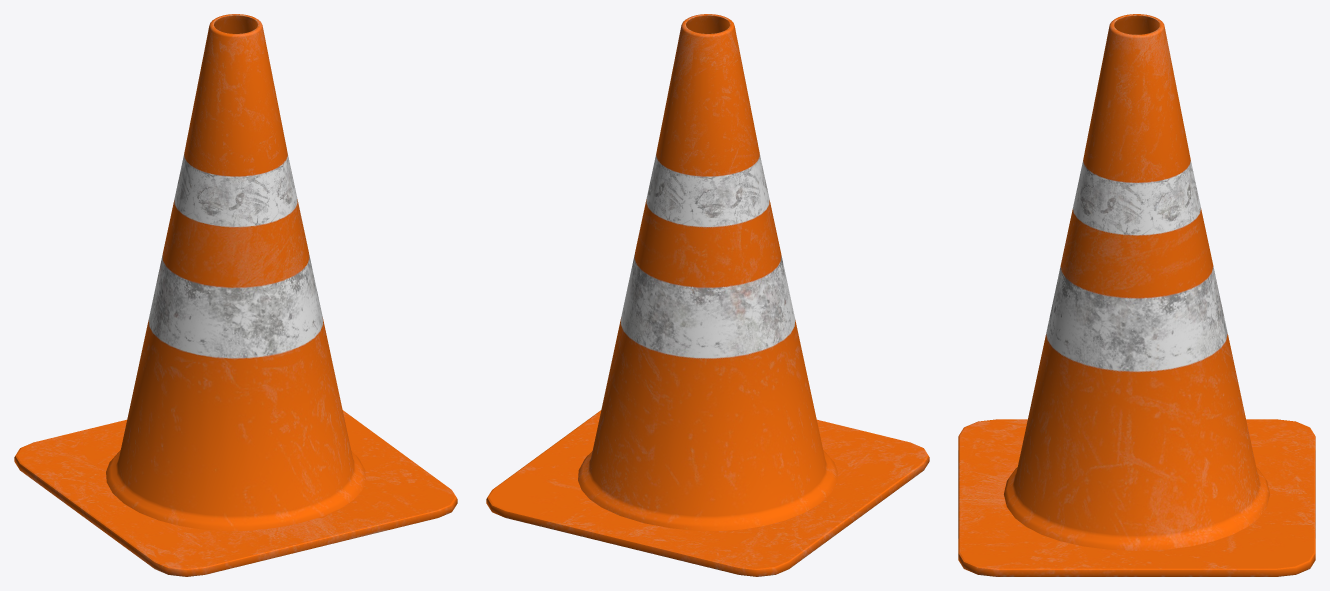
Rendered from traffic_cone_game_ready.glb.
3 views of the same model, side by side, from view 1: azimuth 30°, elevation 25°; view 2: azimuth 150°, elevation 25°; view 3: azimuth 270°, elevation 25° (orthographic). The views are drawn at different scales.
Parts seen in each view (by area): view 1: Cone; view 2: Cone; view 3: Cone.
Part boxes in pixels (bbox=[...]): Cone: bbox=[14, 14, 457, 576]; Cone: bbox=[486, 14, 929, 576]; Cone: bbox=[958, 14, 1315, 576].
Size of the model in its own units: 0.6 by 0.8845 by 0.6.
Materials: 1 (1 with a texture image).
